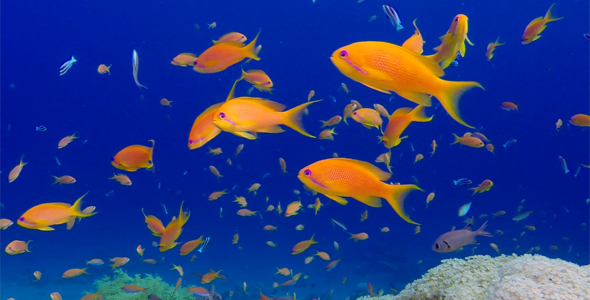fish: (320, 34, 491, 116), (291, 154, 431, 217), (204, 88, 326, 139), (179, 37, 275, 78), (11, 196, 111, 233), (103, 144, 176, 177), (154, 201, 186, 260), (434, 226, 496, 250)
